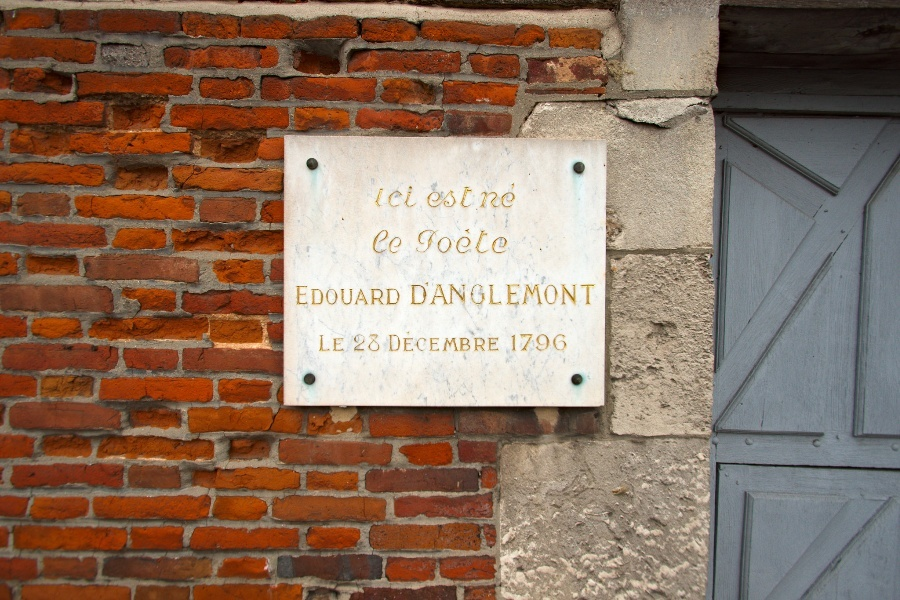text: (497, 183, 512, 210), (385, 229, 400, 254), (433, 230, 448, 255), (449, 230, 464, 255), (465, 230, 480, 255), (481, 230, 496, 255), (417, 282, 432, 306), (433, 282, 448, 306), (449, 282, 464, 306), (465, 282, 480, 306), (481, 282, 496, 306), (497, 282, 512, 306), (513, 282, 528, 306), (529, 282, 544, 306), (545, 282, 560, 306), (561, 282, 576, 306), (577, 282, 592, 306), (483, 183, 496, 210), (385, 185, 400, 208), (401, 185, 416, 208), (433, 185, 448, 208), (449, 185, 464, 208), (401, 331, 416, 353), (417, 331, 432, 353), (433, 331, 448, 353), (449, 331, 464, 353), (465, 331, 480, 353), (481, 331, 496, 353), (419, 230, 432, 255), (497, 230, 510, 255), (305, 285, 320, 306), (321, 285, 336, 306), (337, 285, 352, 306), (353, 285, 368, 306), (369, 285, 384, 306), (385, 285, 400, 306), (513, 332, 528, 353), (529, 332, 544, 353), (545, 332, 560, 353), (387, 331, 400, 353), (373, 229, 384, 254), (321, 335, 336, 352), (354, 335, 368, 353), (465, 185, 475, 208), (369, 335, 381, 353), (297, 285, 304, 306), (513, 183, 518, 210), (561, 332, 567, 353), (411, 282, 416, 306), (337, 335, 344, 352), (380, 185, 384, 208), (593, 282, 596, 306), (417, 185, 419, 208), (497, 331, 499, 353), (401, 229, 402, 254), (431, 185, 432, 208), (401, 285, 402, 306), (511, 332, 512, 353)
